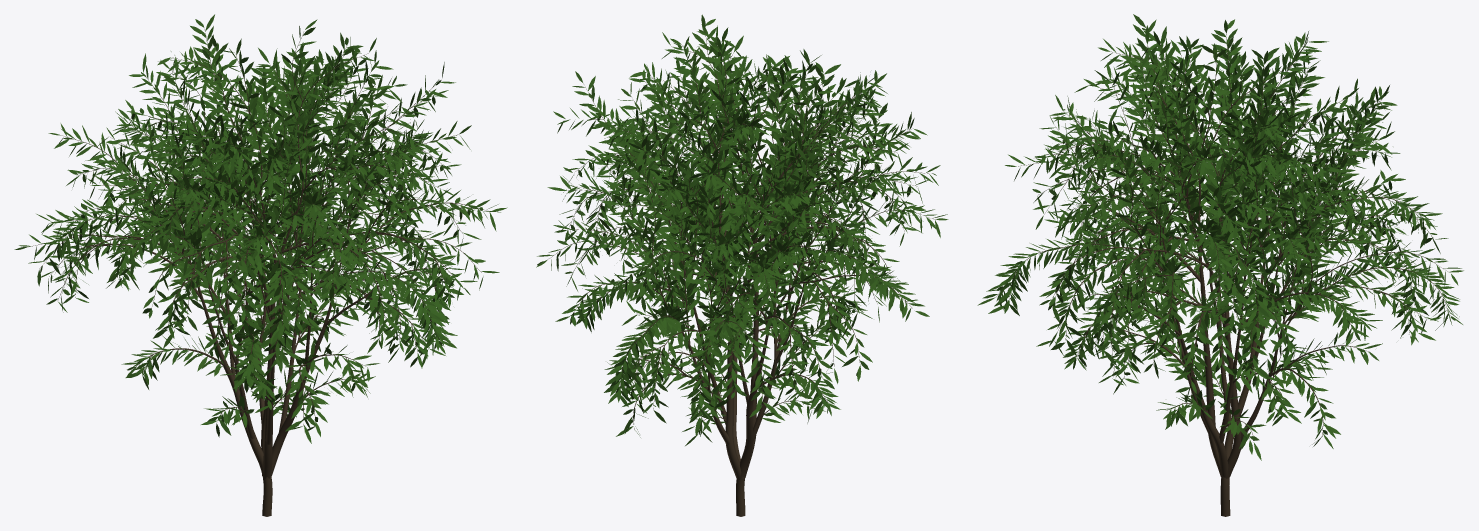
The model's file is tree.gltf.
3 views of the same model, side by side, from view 1: azimuth 30°, elevation 25°; view 2: azimuth 150°, elevation 25°; view 3: azimuth 270°, elevation 25° (orthographic). The views are drawn at different scales.
Parts seen in each view (by area): view 1: leaves, tree; view 2: leaves, tree; view 3: leaves, tree.
Boxes of the visible parts, box(x1,y1,x2,y2) form: leaves: box(14, 14, 507, 443); tree: box(29, 29, 489, 516); leaves: box(536, 14, 948, 445); tree: box(549, 30, 934, 516); leaves: box(977, 14, 1463, 460); tree: box(996, 34, 1449, 516).
Bounding box in the file's own units: 8.72 × 10 × 9.07.
